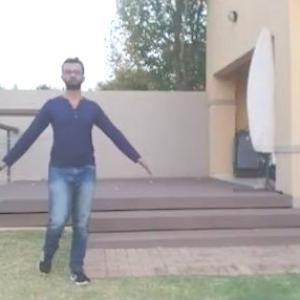land: (3, 64, 145, 280)
